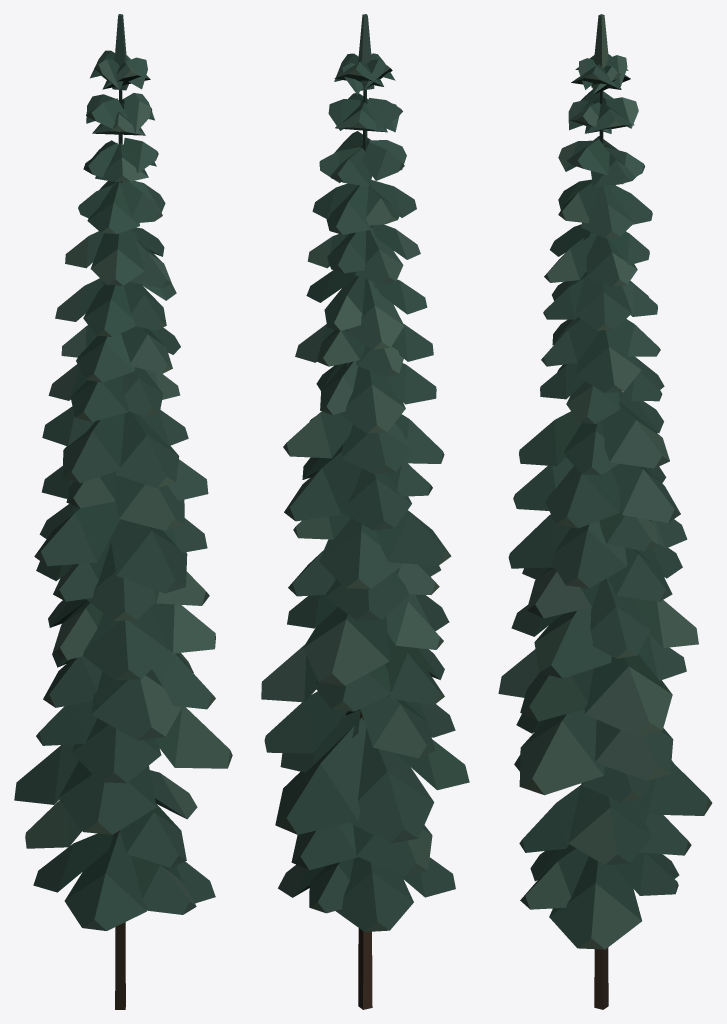
Rendered from pine-skinny.glb.
3 views of the same model, side by side, from view 1: azimuth 30°, elevation 25°; view 2: azimuth 150°, elevation 25°; view 3: azimuth 270°, elevation 25° (orthographic).
Parts seen in each view (by area): view 1: pine-skinny; view 2: pine-skinny; view 3: pine-skinny.
Boxes of the visible parts, left/top/right/bottom form: pine-skinny: left=14, top=14, right=232, bottom=1009; pine-skinny: left=261, top=14, right=469, bottom=1009; pine-skinny: left=498, top=14, right=712, bottom=1009.
Bounding box in the file's own units: 1.83 × 10.5 × 2.05.
